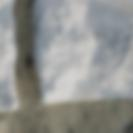brick: (33, 0, 132, 102), (0, 0, 17, 109)
crack: (2, 121, 130, 132)
